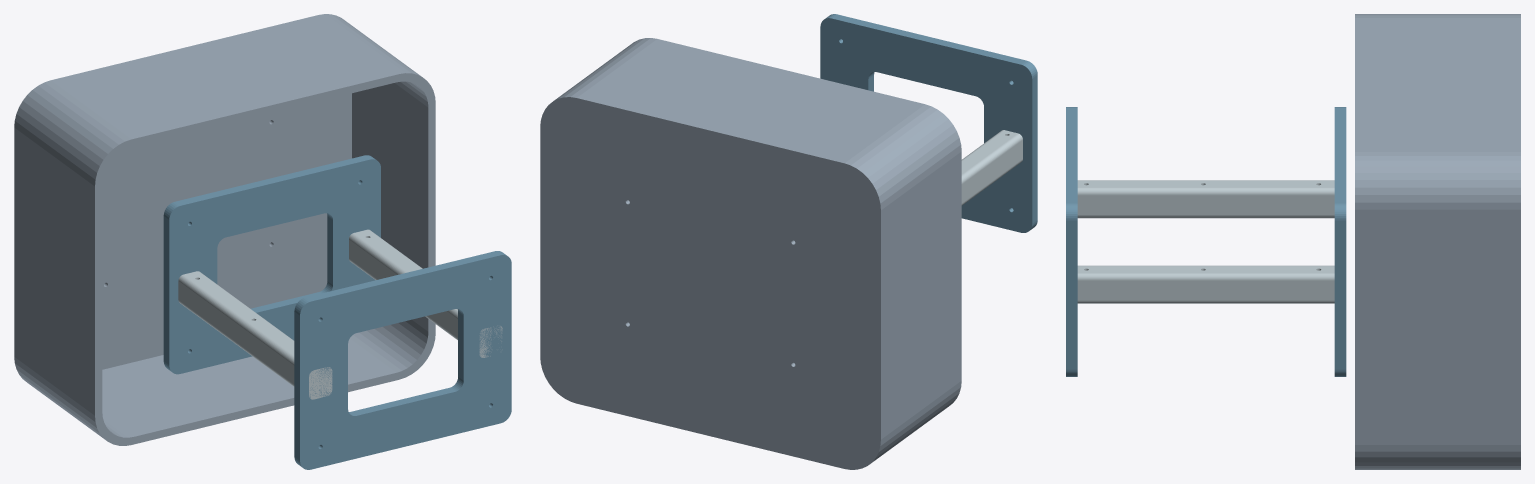
The model's file is Skeleton_Assembly.glb.
The picture shows the model from 3 angles, left to right: view 1: azimuth 30°, elevation 25°; view 2: azimuth 150°, elevation 25°; view 3: azimuth 270°, elevation 25°; orthographic projection. The views are drawn at different scales.
Visible parts, largest first — view 1: HBR-018, HBR-006, HBR-007, HBR-008, HBR-009; view 2: HBR-018, HBR-006, HBR-008; view 3: HBR-018, HBR-008, HBR-009, HBR-007, HBR-006.
Boxes of the visible parts, left/top/right/bottom form: HBR-018: left=14, top=14, right=435, bottom=445; HBR-006: left=294, top=251, right=511, bottom=469; HBR-007: left=163, top=155, right=380, bottom=374; HBR-008: left=178, top=271, right=332, bottom=399; HBR-009: left=349, top=229, right=502, bottom=357; HBR-018: left=540, top=38, right=961, bottom=469; HBR-006: left=820, top=14, right=1037, bottom=232; HBR-008: left=961, top=130, right=1022, bottom=205; HBR-018: left=1355, top=14, right=1520, bottom=469; HBR-008: left=1077, top=180, right=1334, bottom=218; HBR-009: left=1077, top=265, right=1334, bottom=303; HBR-007: left=1334, top=107, right=1346, bottom=376; HBR-006: left=1066, top=107, right=1077, bottom=376.
Size of the model in its own units: 280 by 240 by 315.
